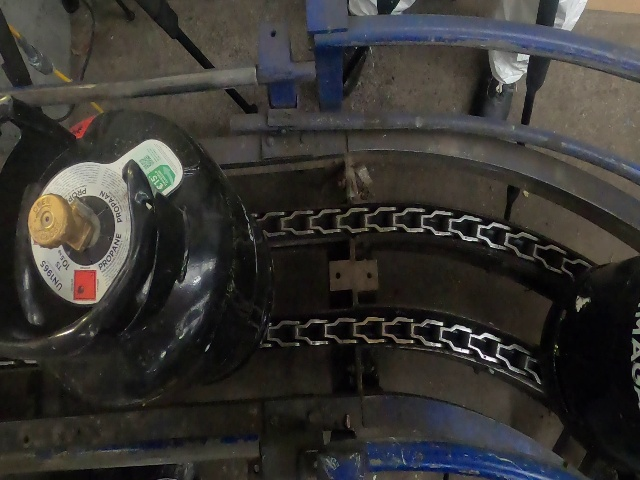gas_bottle: (0, 0, 637, 472)
